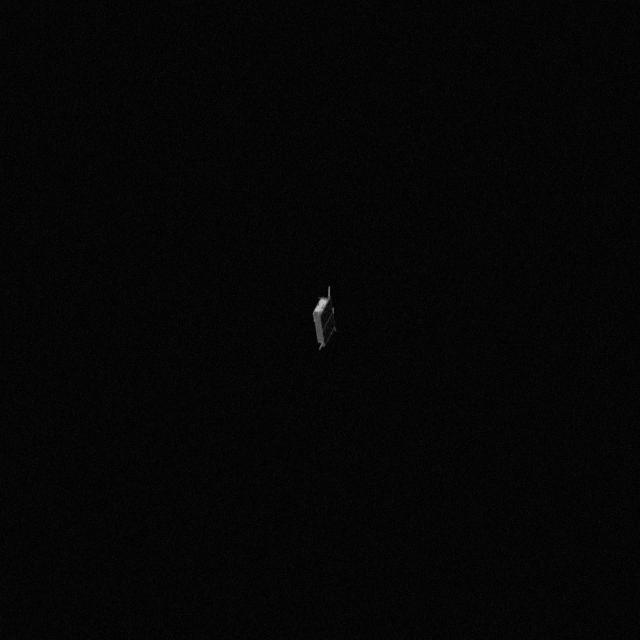medium_debris: (312, 284, 346, 356)
